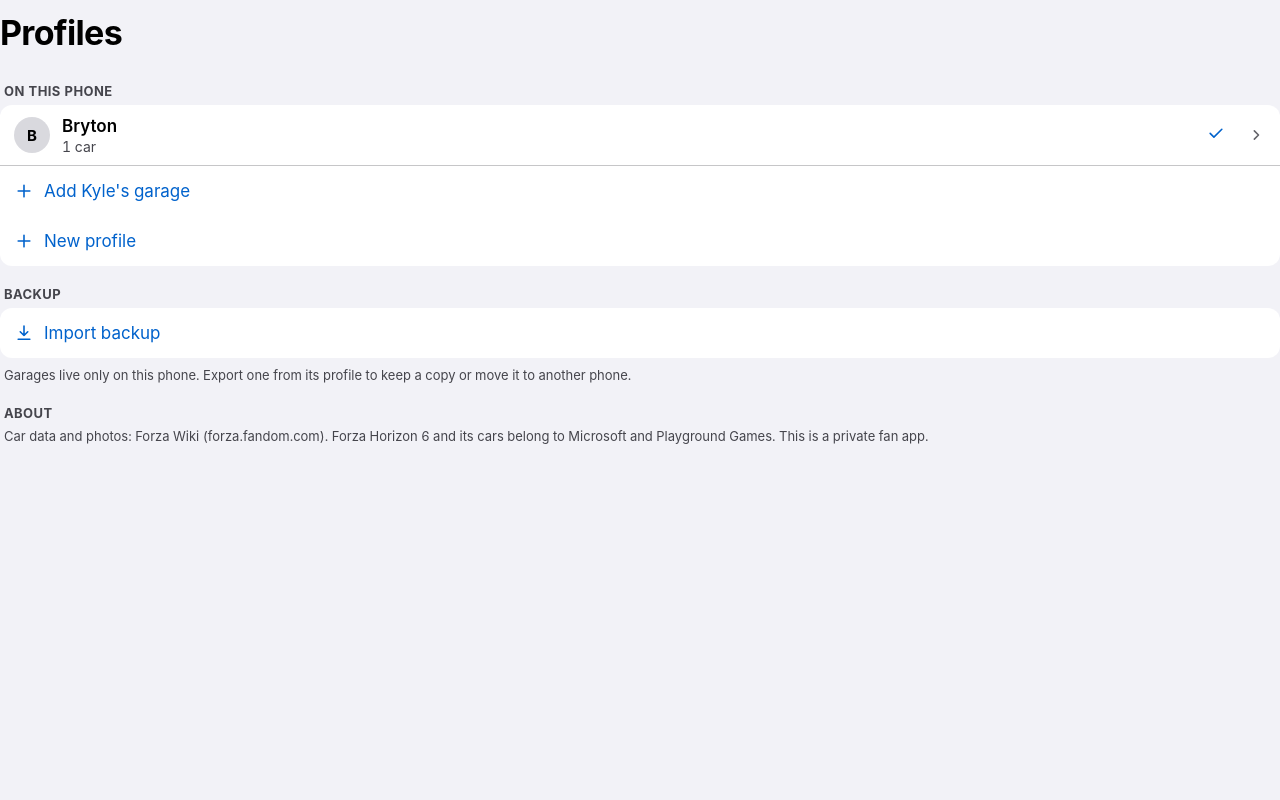
Test: Profiles › new profile starts empty and becomes active
Click the button "New profile": [90, 241] box [0, 216, 1279, 266]
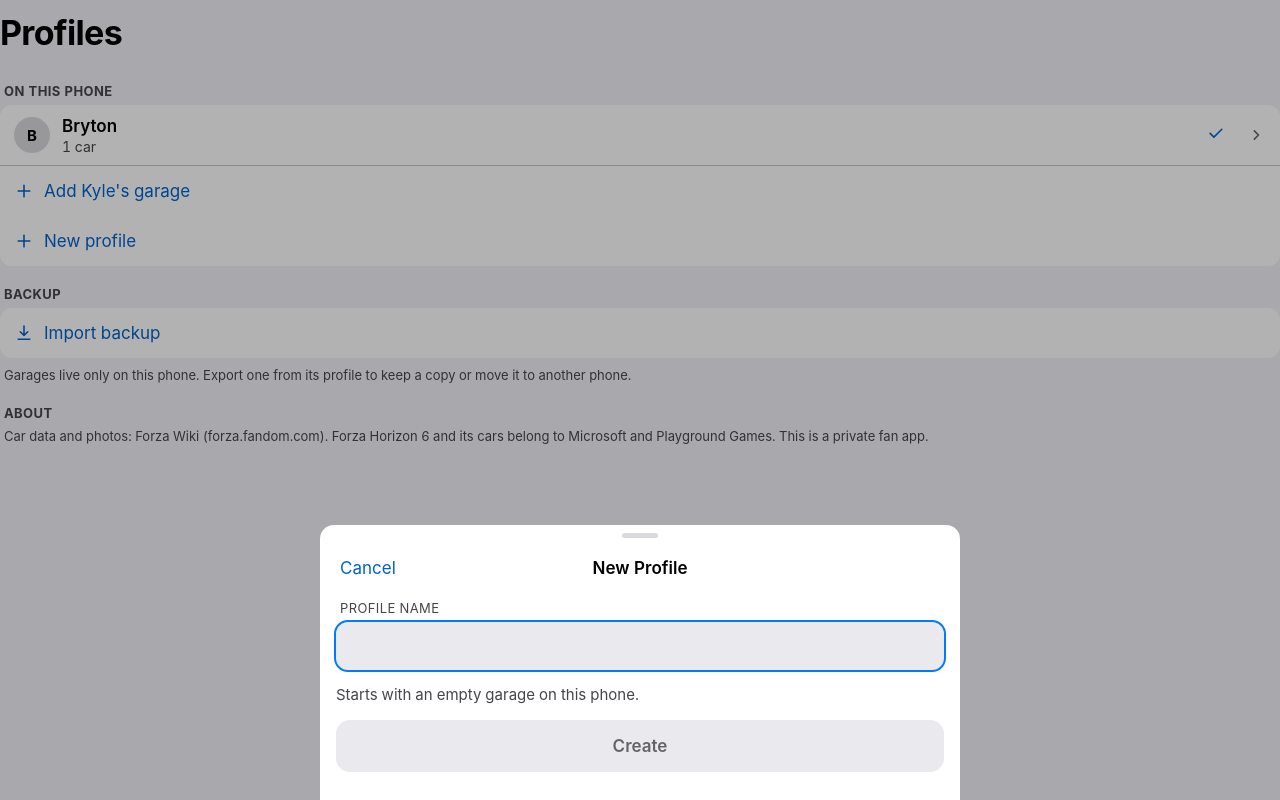
In the field labelled "Profile name": [640, 646] box [336, 622, 944, 670], type "Kyle"
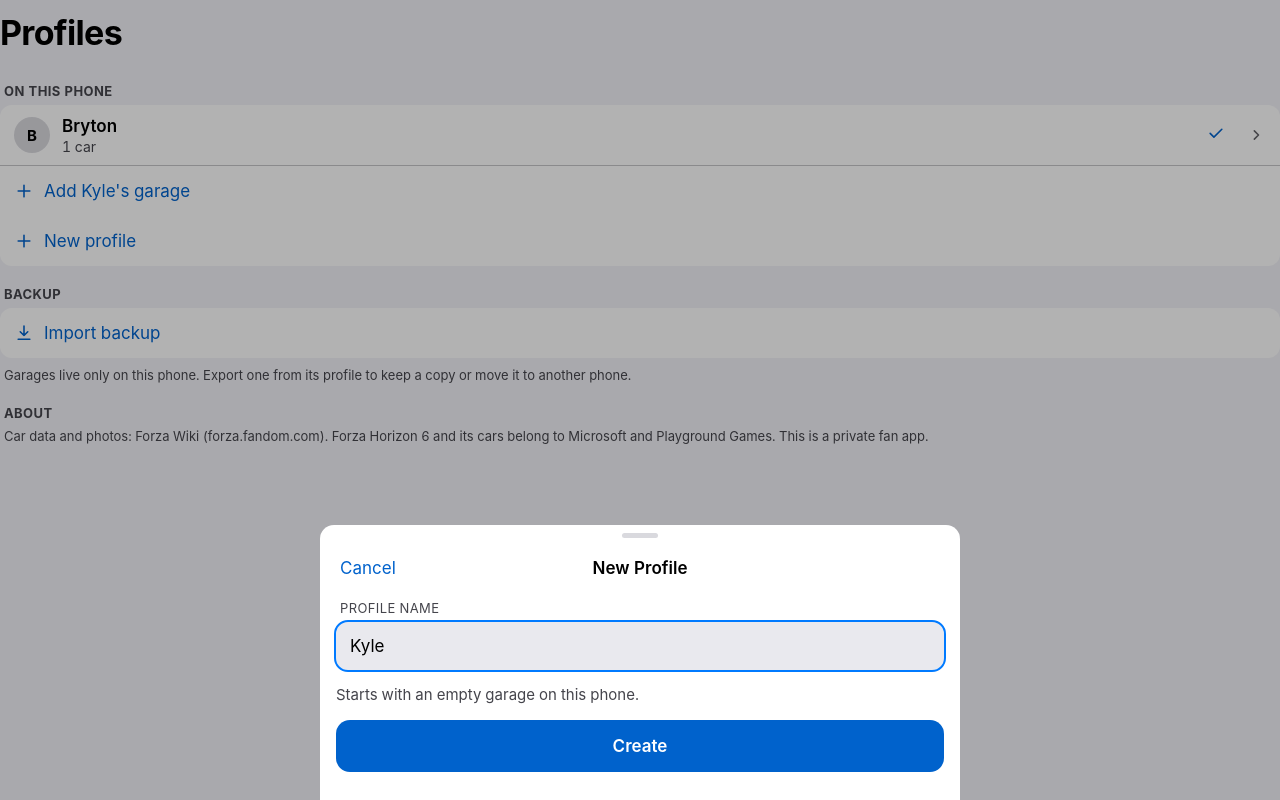
Click the button "Create": [640, 746] box [336, 720, 944, 772]
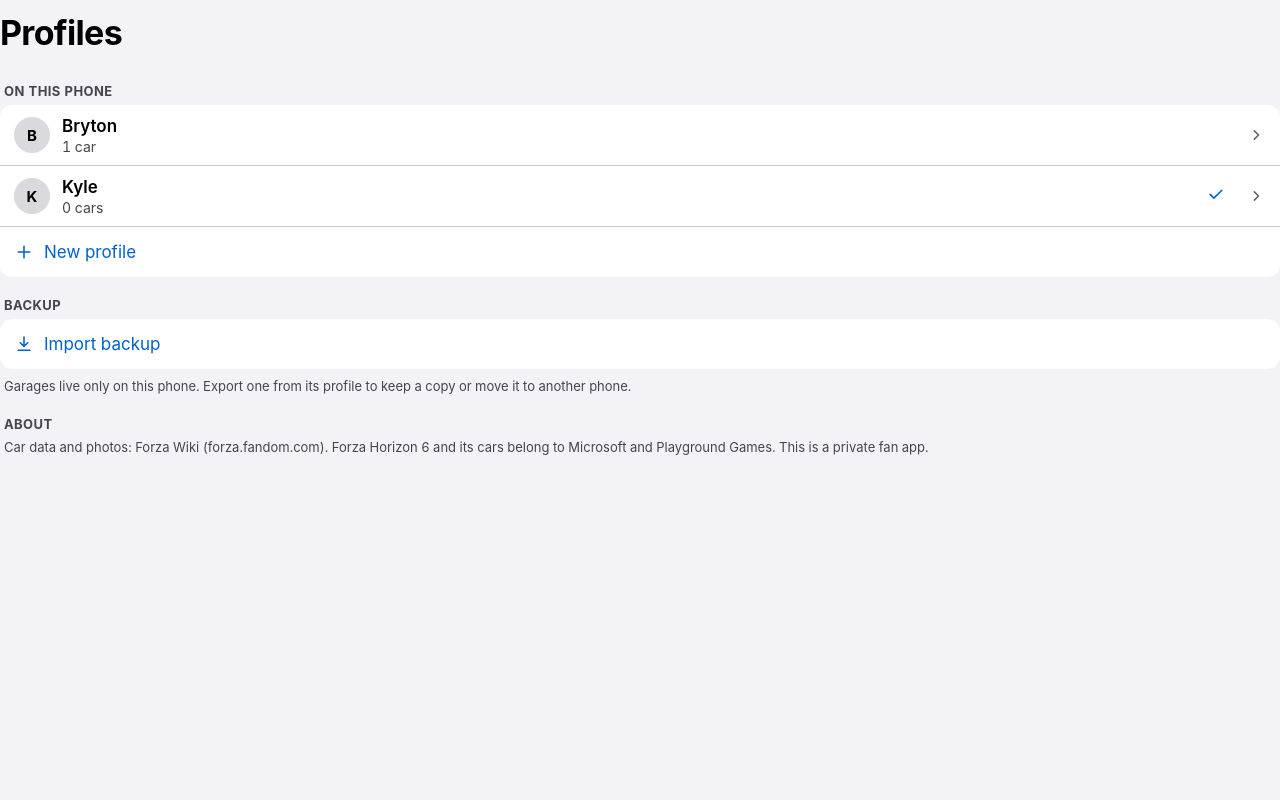
expect the radio button with aria-label "Kyle, 0 cars" is checked: met, box [0, 166, 1232, 226]
